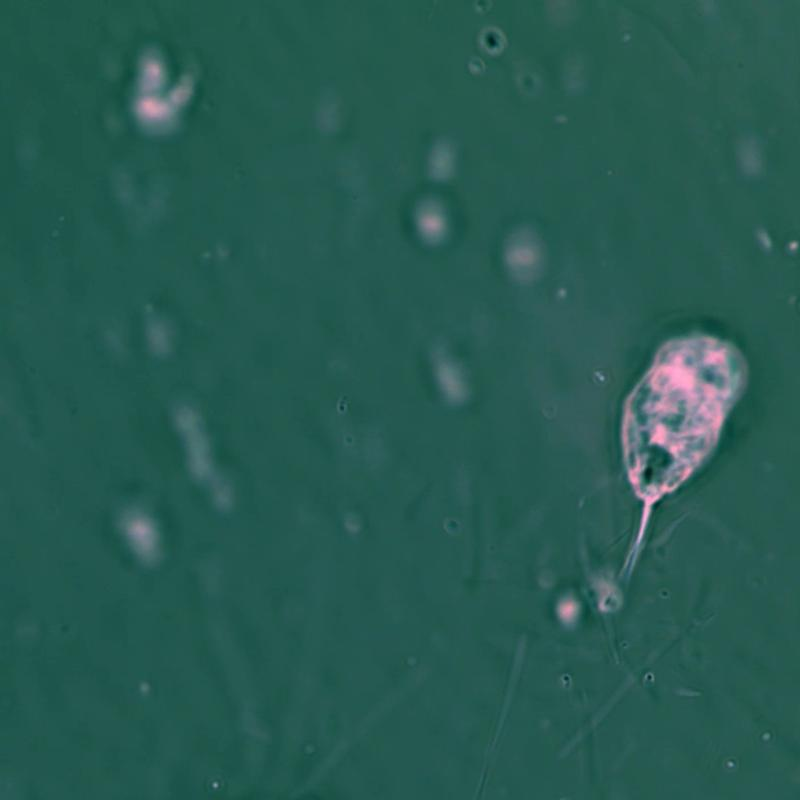depth:20: (592, 289, 773, 611)
